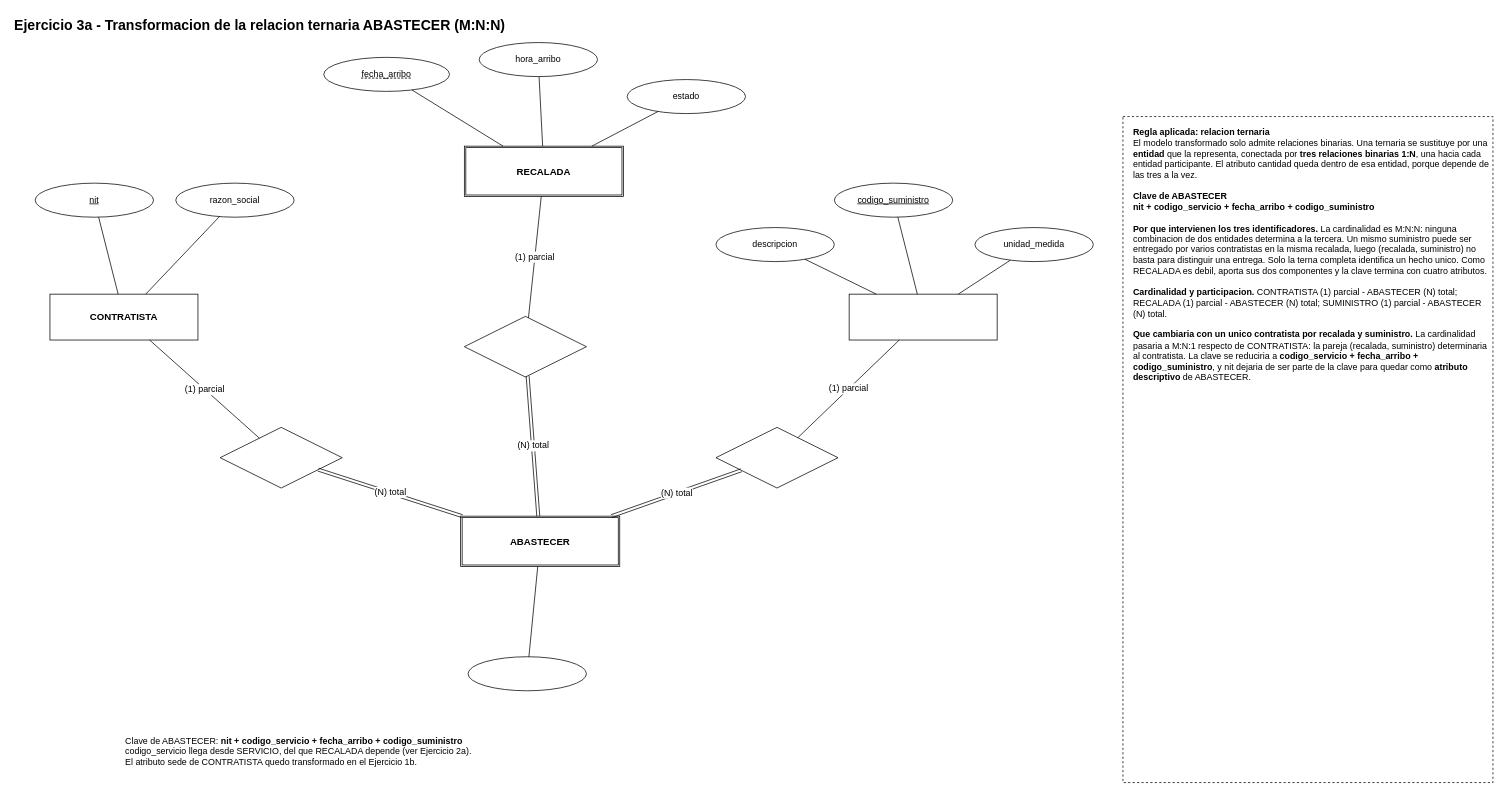
Some shapes in this 1506 by 802 pixel diagram are drawn without their labels. Each missing label, with the box of its shape:
cantidad: (467, 656, 586, 691)
CORRESPONDER: (464, 316, 586, 377)
INCLUIR: (715, 427, 838, 488)
SUMINISTRO: (848, 293, 997, 340)
SURTIR: (219, 427, 342, 488)
